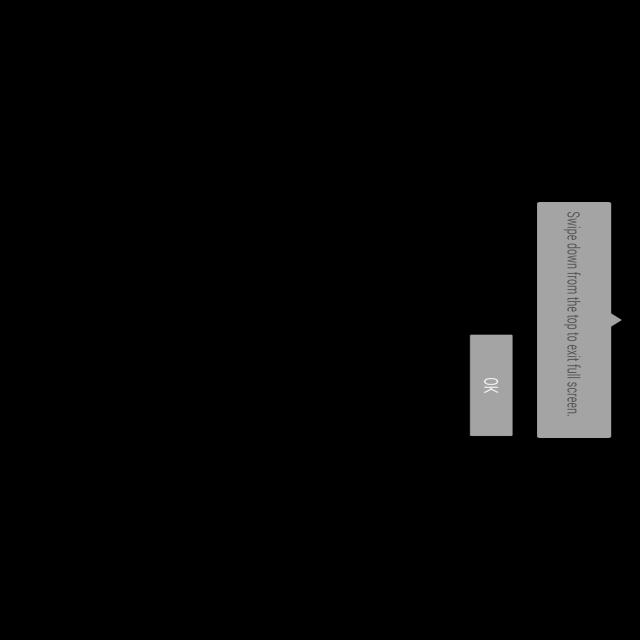Button: (457, 327, 523, 442)
TextView: (560, 206, 586, 415)
